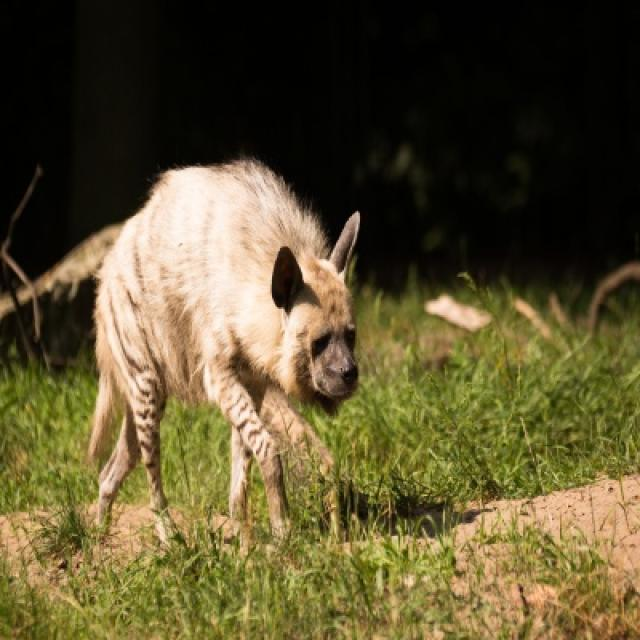hyena: (16, 160, 362, 554)
